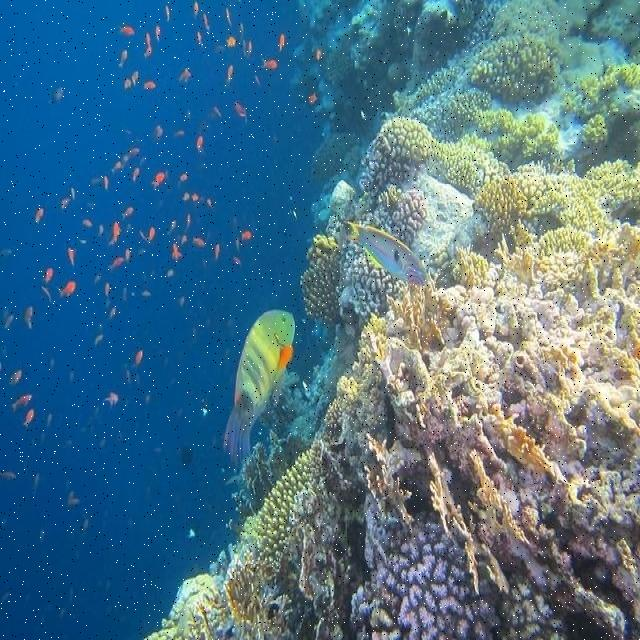fish: (143, 162, 639, 639), (394, 2, 639, 171), (222, 308, 300, 467), (343, 221, 429, 286)
reefs: (359, 118, 639, 256), (377, 521, 506, 639), (240, 446, 315, 572), (469, 34, 559, 102), (301, 232, 342, 323), (366, 188, 429, 241), (352, 253, 399, 307)
